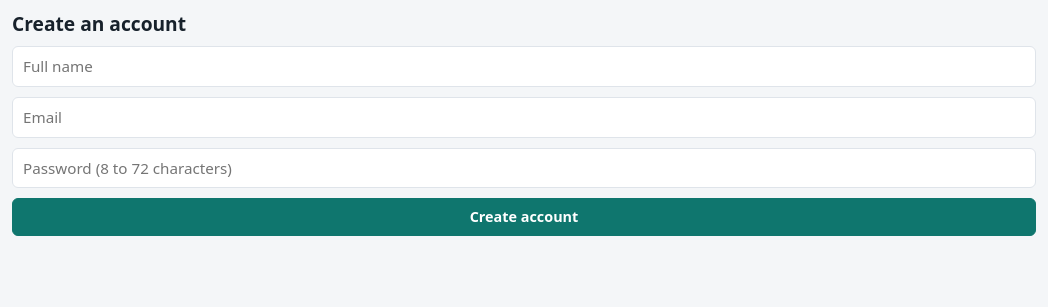
it: RegisterForm › says when the email is already registered
Type "Test Player" into the field with placeholder "Full name". click: [524, 66]
box: x1=12 y1=46 x2=1036 y2=87
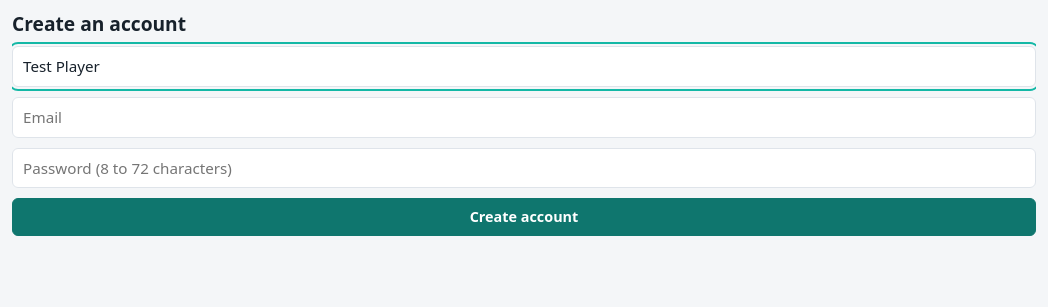
Type "player@example.test" into the field with placeholder "Email". click: [524, 117]
box: x1=12 y1=97 x2=1036 y2=138
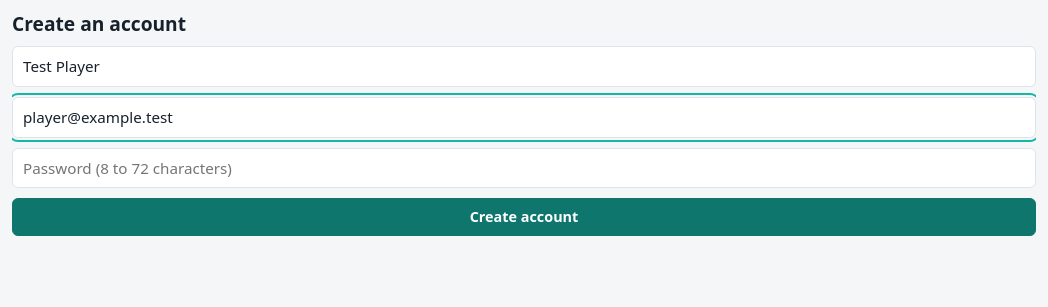
Type "long-enough-pw" into the password field with placeholder "Password (8 to 72 characters)". click: [524, 168]
box: x1=12 y1=148 x2=1036 y2=188
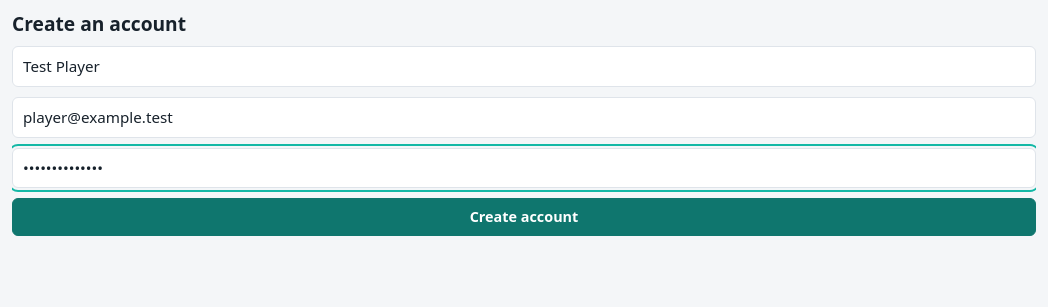
Click the button "Create account". click: [524, 217]
box: x1=12 y1=198 x2=1036 y2=236
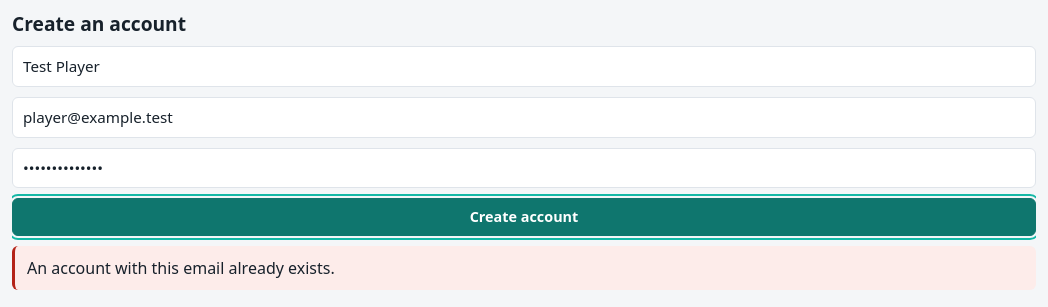
Expected: the message reads "An account with this email already exists.", x1=27 y1=257 x2=335 y2=279
